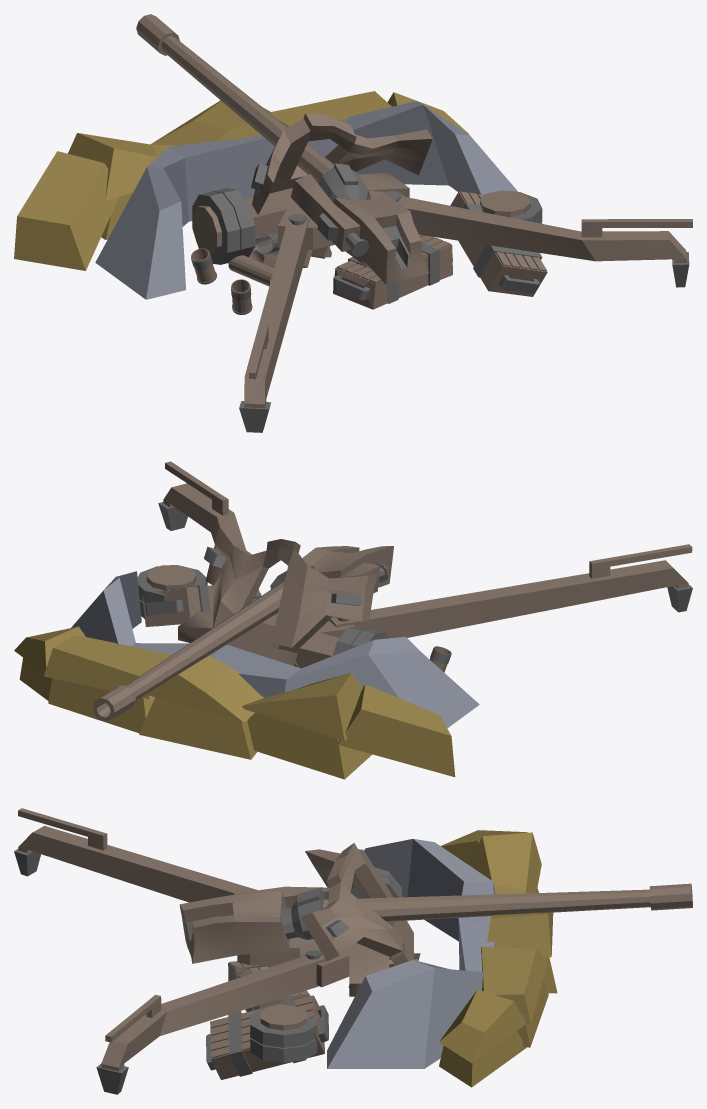
Rendered from mortars_brokens.fbx.
The picture shows the model from 3 angles, top to bottom: view 1: azimuth 30°, elevation 25°; view 2: azimuth 150°, elevation 25°; view 3: azimuth 270°, elevation 25°; orthographic projection. The views are drawn at different scales.
Parts seen in each view (by area): view 1: mortar_broken_t3, mortar_broken_t2, mortar_broken_t1; view 2: mortar_broken_t3, mortar_broken_t1, mortar_broken_t2; view 3: mortar_broken_t3, mortar_broken_t2, mortar_broken_t1.
Boxes of the visible parts, x1=… form: mortar_broken_t3: x1=136, y1=14, x2=692, y2=432; mortar_broken_t2: x1=95, y1=101, x2=547, y2=314; mortar_broken_t1: x1=14, y1=91, x2=468, y2=284; mortar_broken_t3: x1=92, y1=461, x2=692, y2=721; mortar_broken_t1: x1=14, y1=626, x2=455, y2=779; mortar_broken_t2: x1=71, y1=571, x2=479, y2=727; mortar_broken_t3: x1=14, y1=808, x2=692, y2=1094; mortar_broken_t2: x1=206, y1=839, x2=495, y2=1079; mortar_broken_t1: x1=389, y1=830, x2=557, y2=1087.
Bounding box in the file's own units: 621 × 205 × 768.
